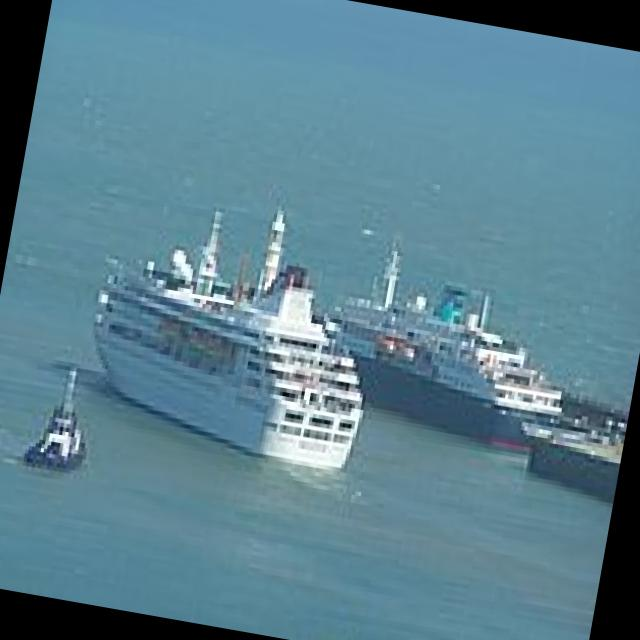boat: (72, 234, 382, 480), (310, 250, 590, 440), (10, 350, 114, 488)
